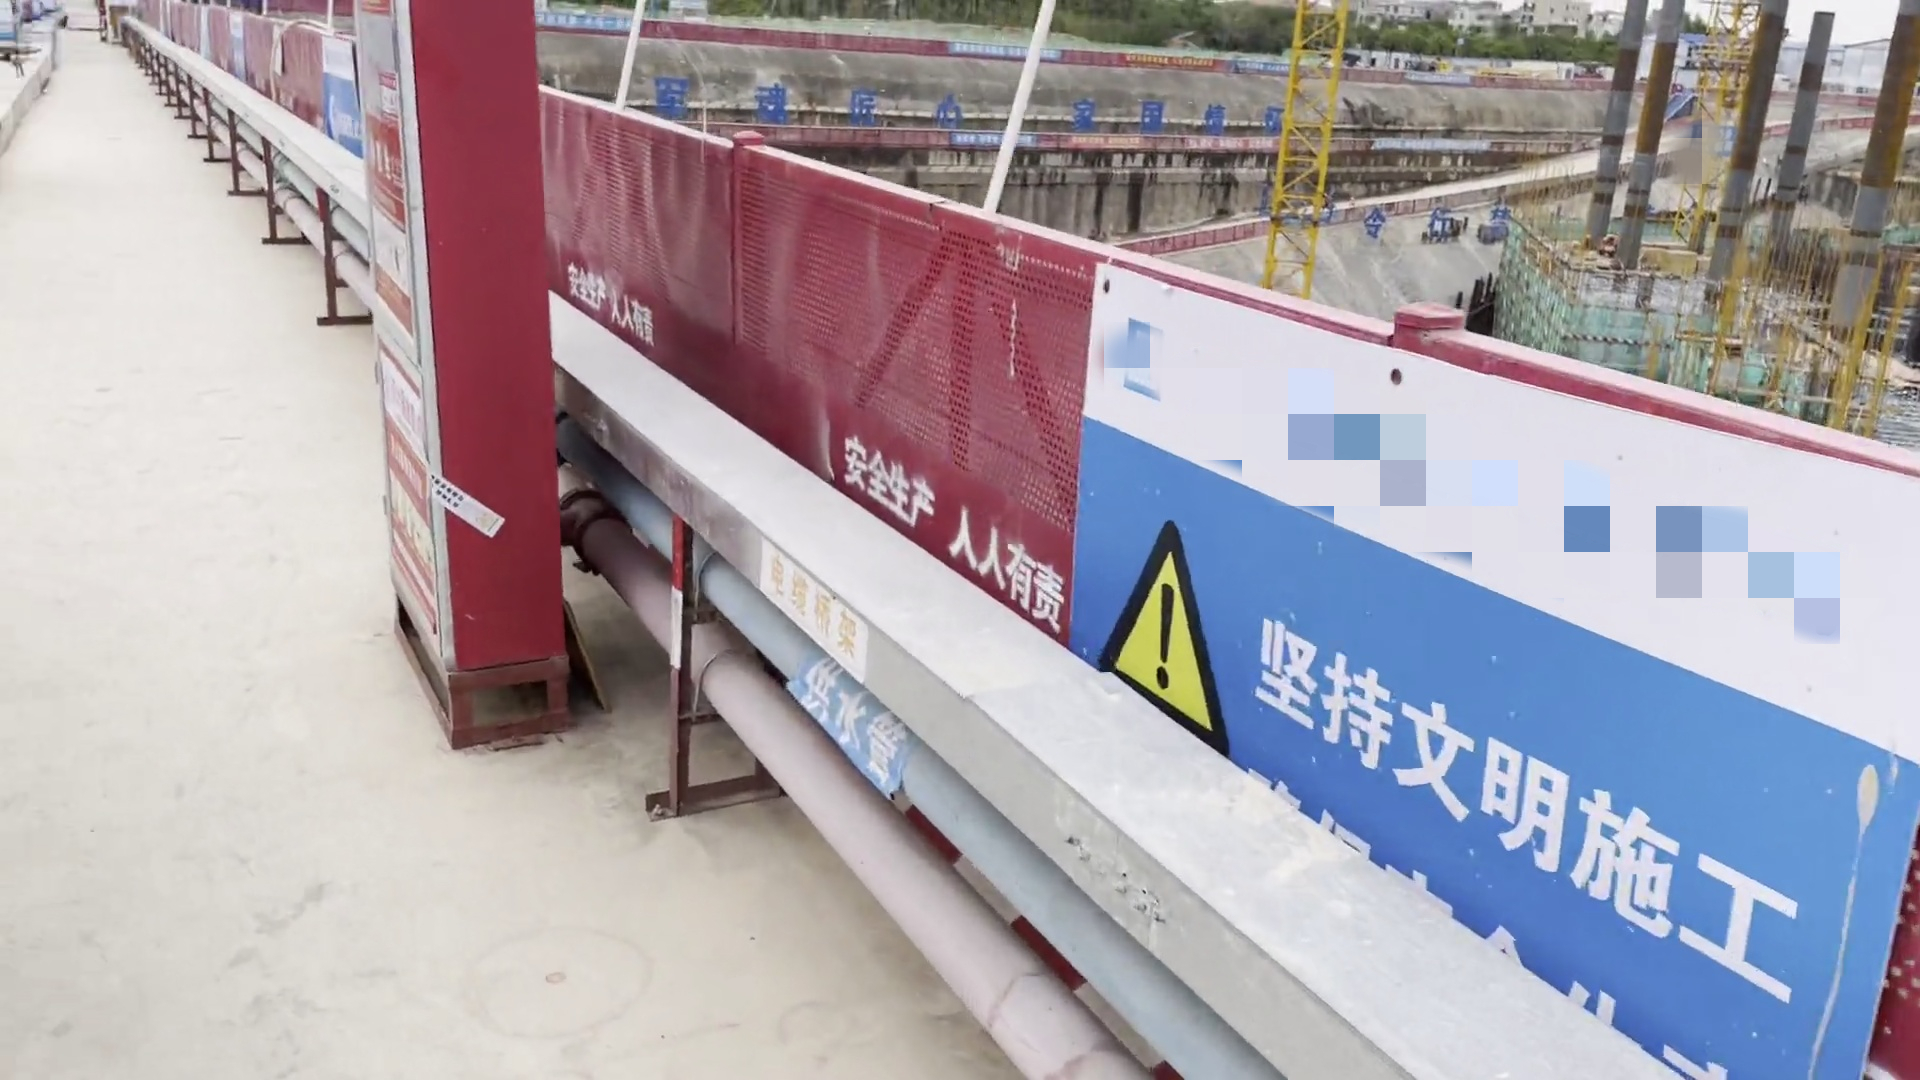fence: (1389, 323, 1920, 1080), (910, 195, 1403, 885), (537, 88, 914, 550), (133, 1, 365, 177)
slogan: (1044, 237, 1920, 1080), (353, 5, 456, 615), (294, 22, 371, 187), (1113, 45, 1226, 84), (534, 1, 637, 45), (948, 41, 1069, 76), (1234, 46, 1325, 94), (222, 11, 264, 112), (1691, 115, 1754, 170), (1180, 127, 1275, 161), (940, 128, 1038, 153), (1063, 128, 1146, 157)
